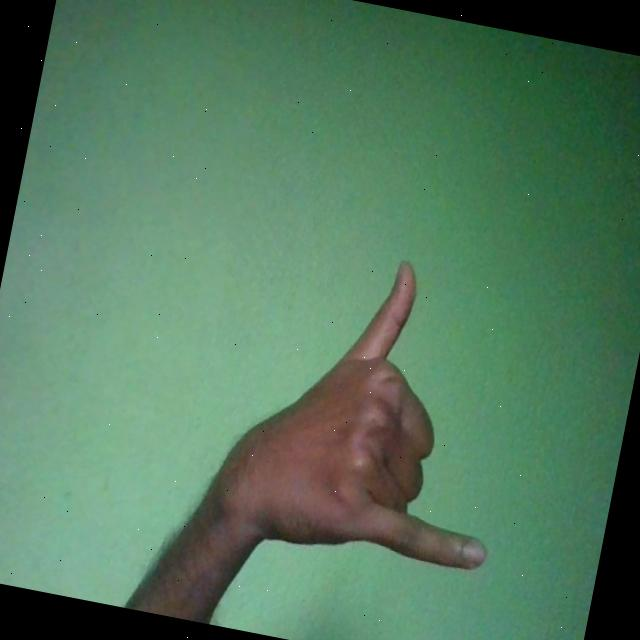Call Me: (200, 232, 539, 580)
